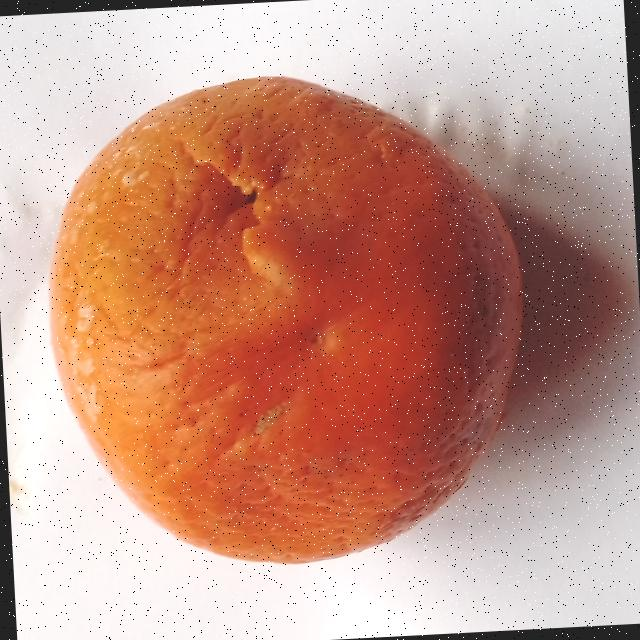Rotten: (37, 62, 537, 576)
